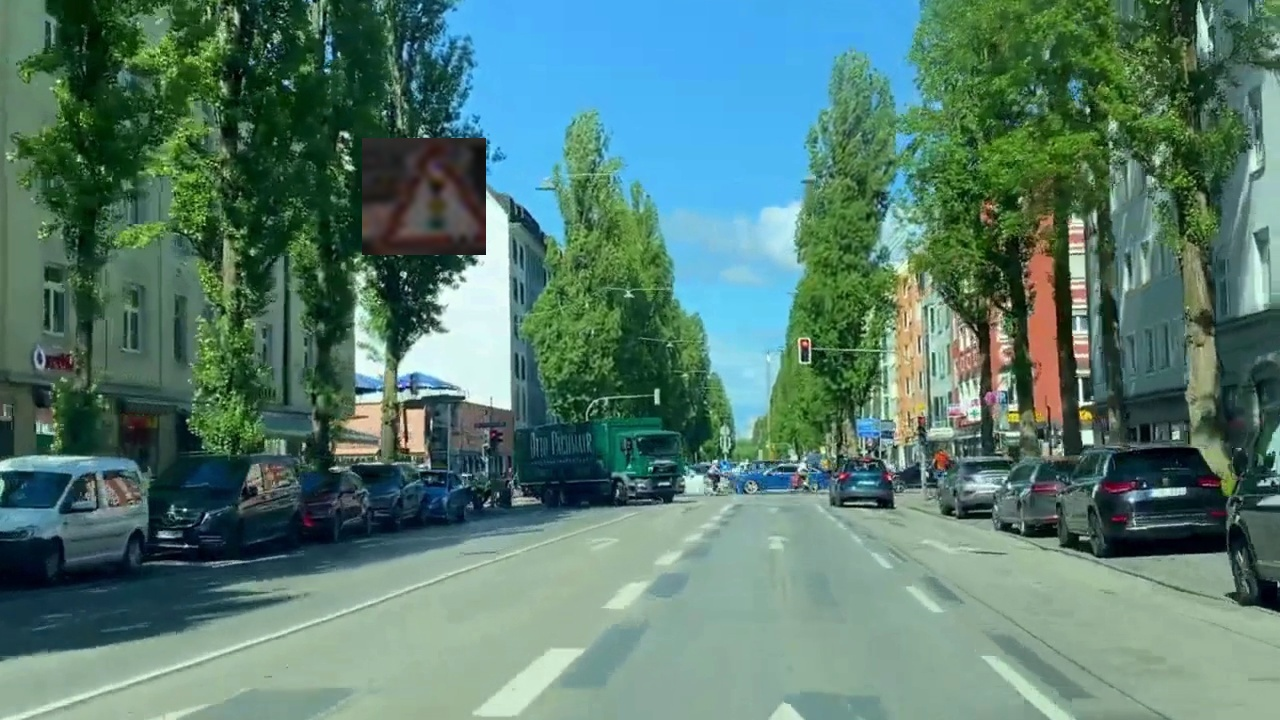Signals: (362, 138, 486, 255)
